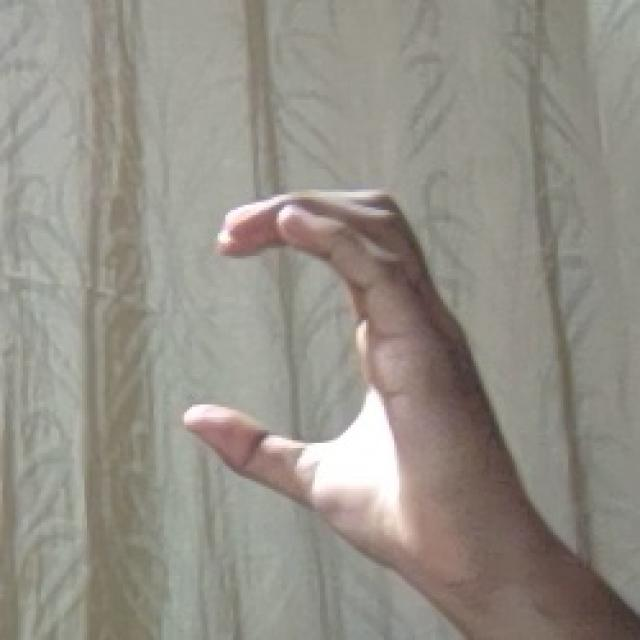Alphabet-C: (187, 192, 640, 640)
